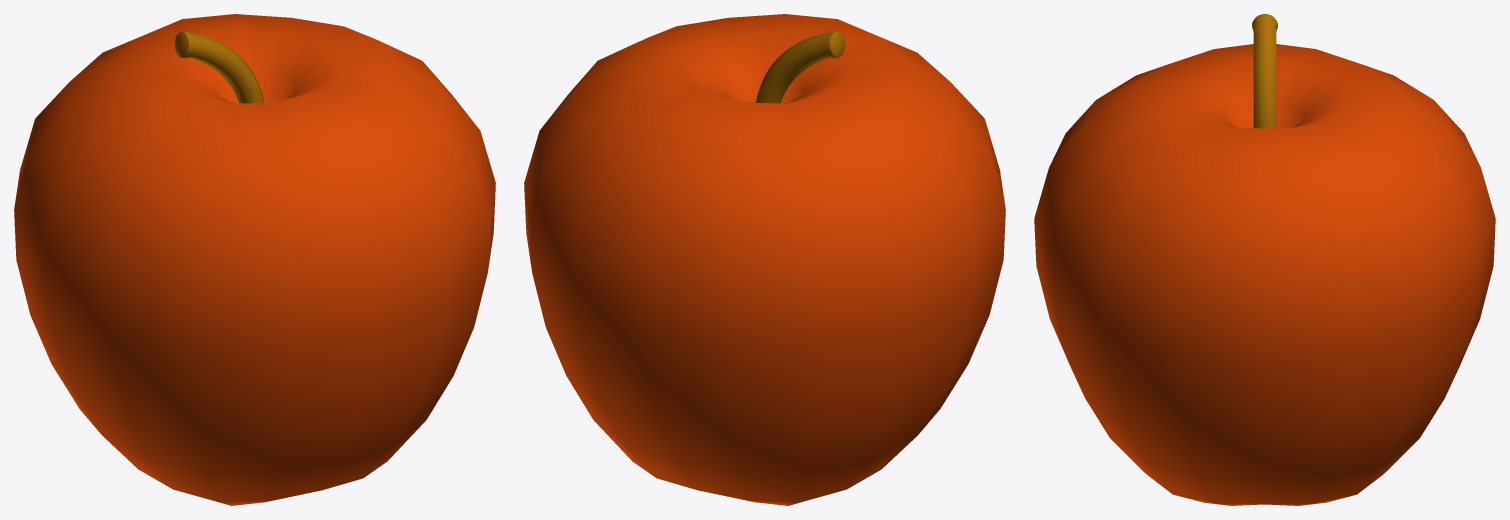
Rendered from apple.fbx.
The picture shows the model from 3 angles, left to right: view 1: azimuth 30°, elevation 25°; view 2: azimuth 150°, elevation 25°; view 3: azimuth 270°, elevation 25°; orthographic projection. The views are drawn at different scales.
Parts seen in each view (by area): view 1: apple; view 2: apple; view 3: apple.
Boxes of the visible parts, box(x1,y1,x2,y2) form: apple: box(14, 14, 495, 505); apple: box(524, 14, 1005, 505); apple: box(1034, 14, 1495, 505).
Size of the model in its own units: 29.95 by 30.83 by 29.95.
